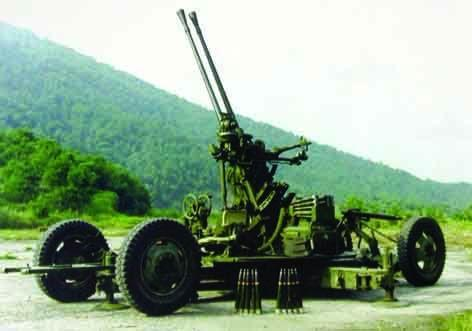MIL_SPG: (6, 9, 446, 315)
